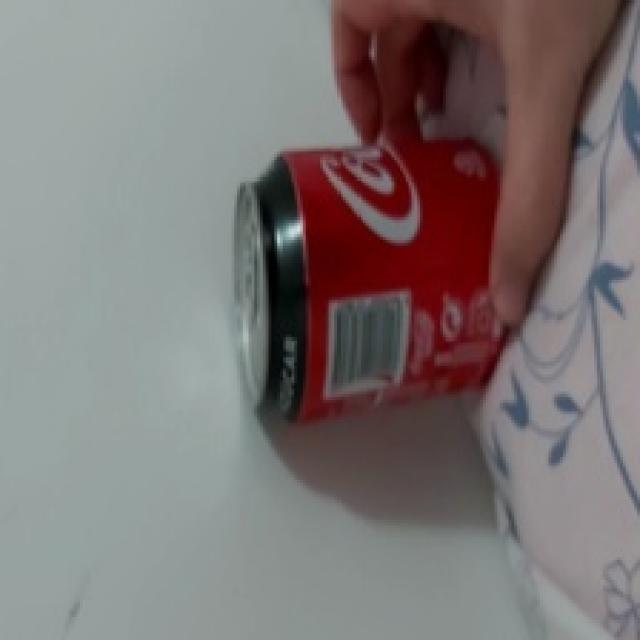recyclable: (232, 136, 512, 427)
